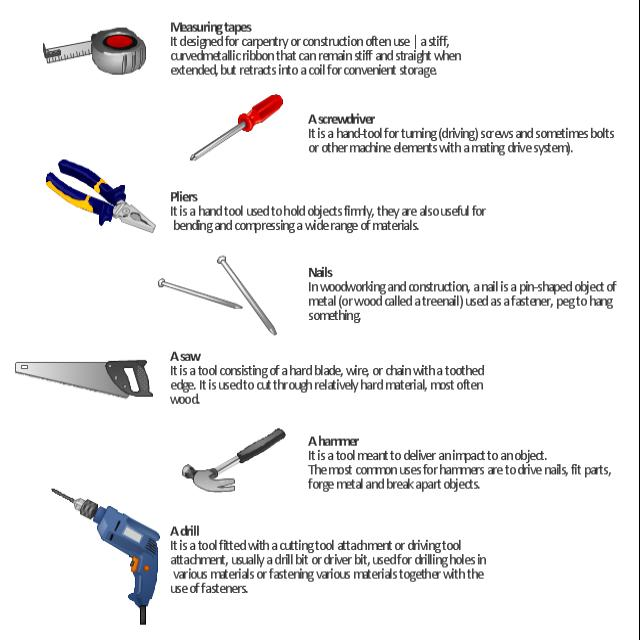Screwdriver: (190, 95, 282, 160)
